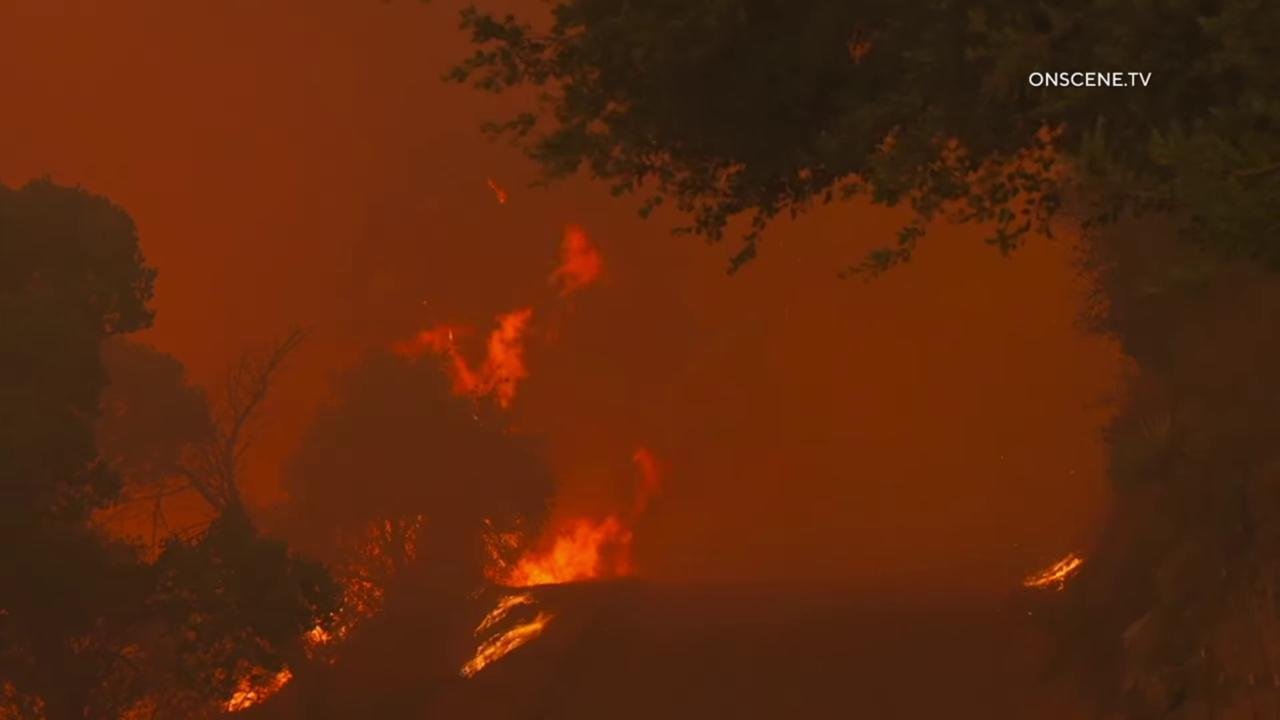fire: (471, 445, 673, 590), (381, 302, 537, 415), (459, 591, 554, 682), (306, 576, 388, 654), (547, 226, 608, 299), (217, 658, 295, 713), (1018, 549, 1087, 595), (482, 174, 511, 206)
smoke: (0, 0, 1280, 720)
